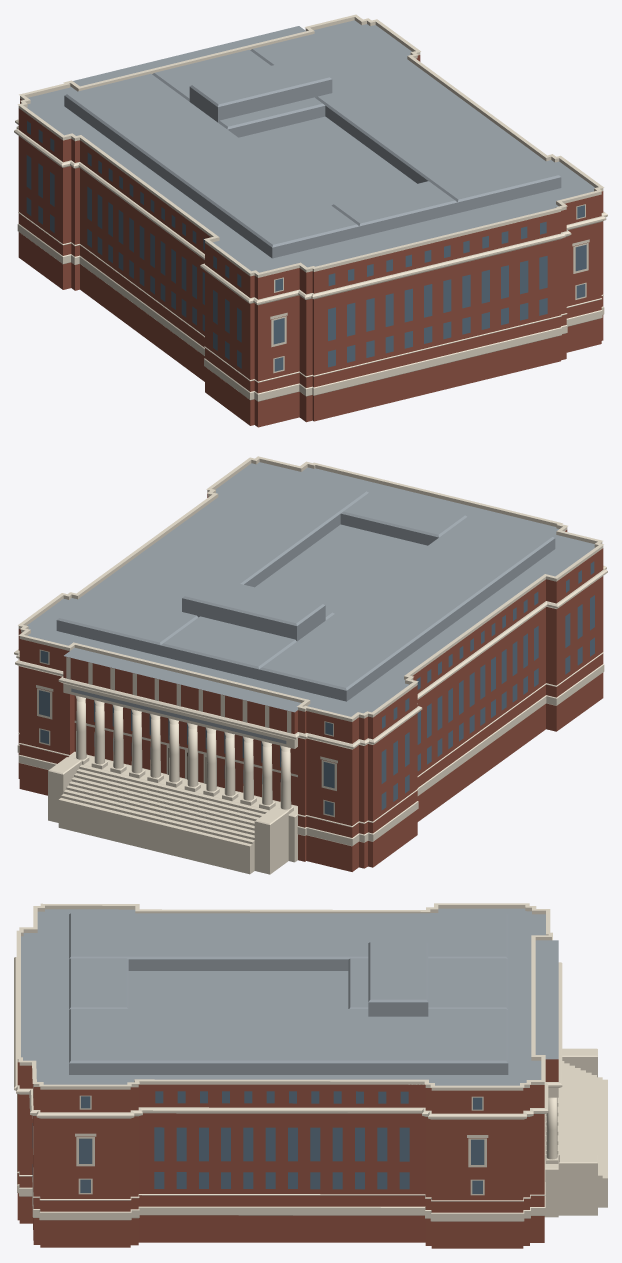
File: bos-widener-library.glb
3 renders of one model, top to bottom at view 1: azimuth 30°, elevation 25°; view 2: azimuth 150°, elevation 25°; view 3: azimuth 270°, elevation 25°, orthographic. The views are drawn at different scales.
Visible parts, largest first — view 1: Widener Library; view 2: Widener Library; view 3: Widener Library.
Part boxes in pixels (bbox=[...]): Widener Library: bbox=[14, 14, 607, 427]; Widener Library: bbox=[14, 456, 607, 874]; Widener Library: bbox=[14, 903, 607, 1248].
Size of the model in its own units: 66.3 by 31.1 by 89.25.
